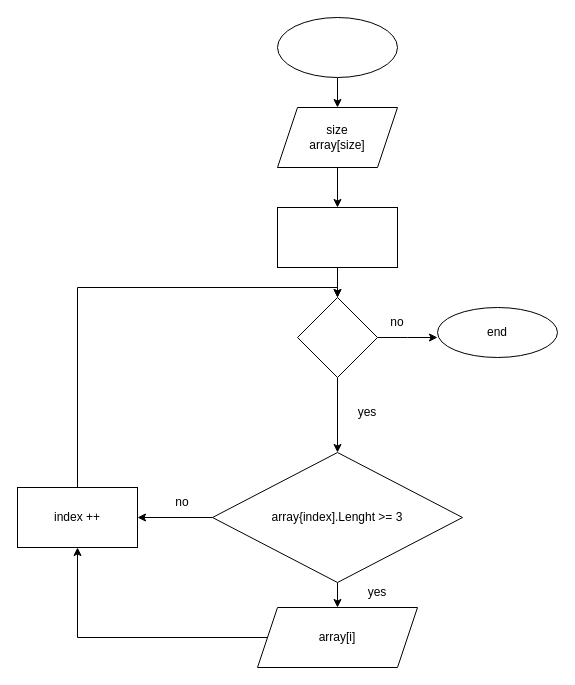
Image size: 575x685. Some labels were removed from this diagram. The box of each missing label's shape, as (x1, y1, x2, y2) in pixels:
index < size: (296, 296, 378, 378)
index = 0: (276, 206, 398, 268)
start: (276, 16, 398, 78)
